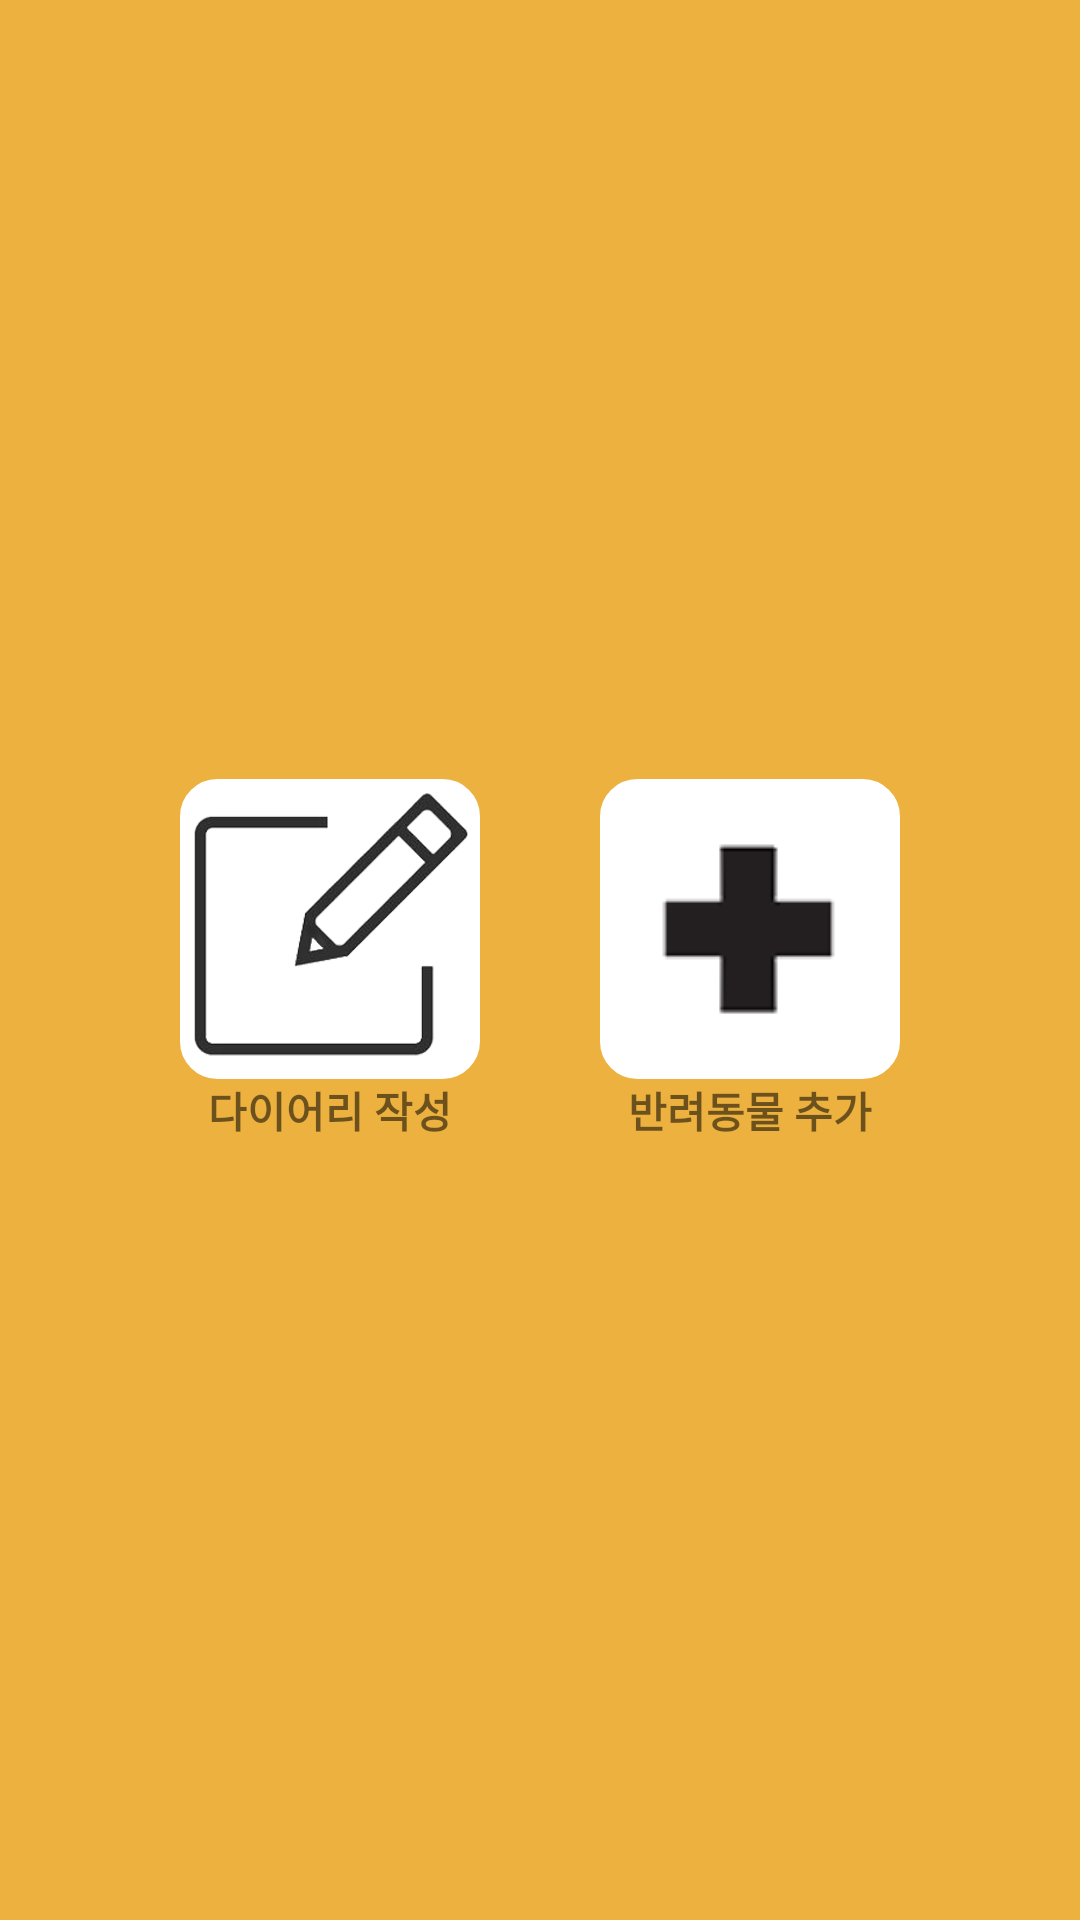

Screen size 1080px x 1920px. Icon name, then its box in pixels as bbox(x1, y1, x2, y2):
note: bbox(180, 779, 480, 1079)
